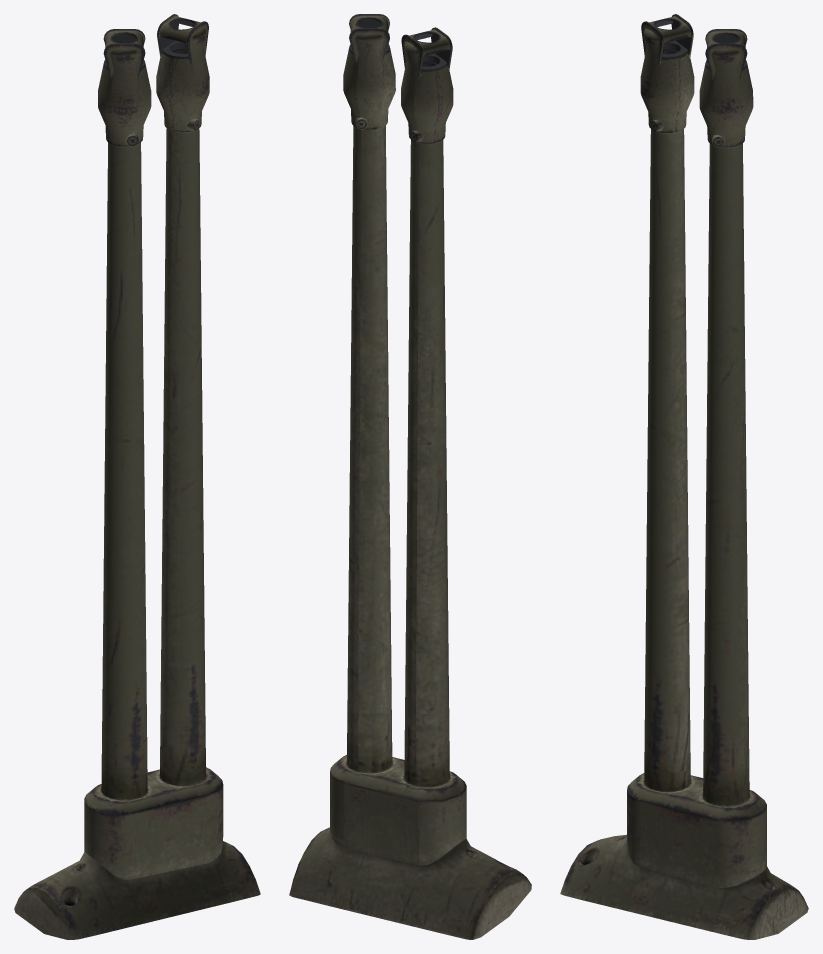
The model's file is Gun_01.glb.
The picture shows the model from 3 angles, left to right: view 1: azimuth 30°, elevation 25°; view 2: azimuth 150°, elevation 25°; view 3: azimuth 330°, elevation 25°; orthographic projection. The views are drawn at different scales.
Visible parts, largest first — view 1: set_0_group_0; view 2: set_0_group_0; view 3: set_0_group_0.
Part boxes in pixels (x1,y1,x2,y2): set_0_group_0: (14, 14, 260, 939); set_0_group_0: (289, 14, 531, 939); set_0_group_0: (560, 14, 808, 939).
Bounding box in the file's own units: 1.11 × 4.81 × 0.6237.
Materials: 1 (1 with a texture image).
